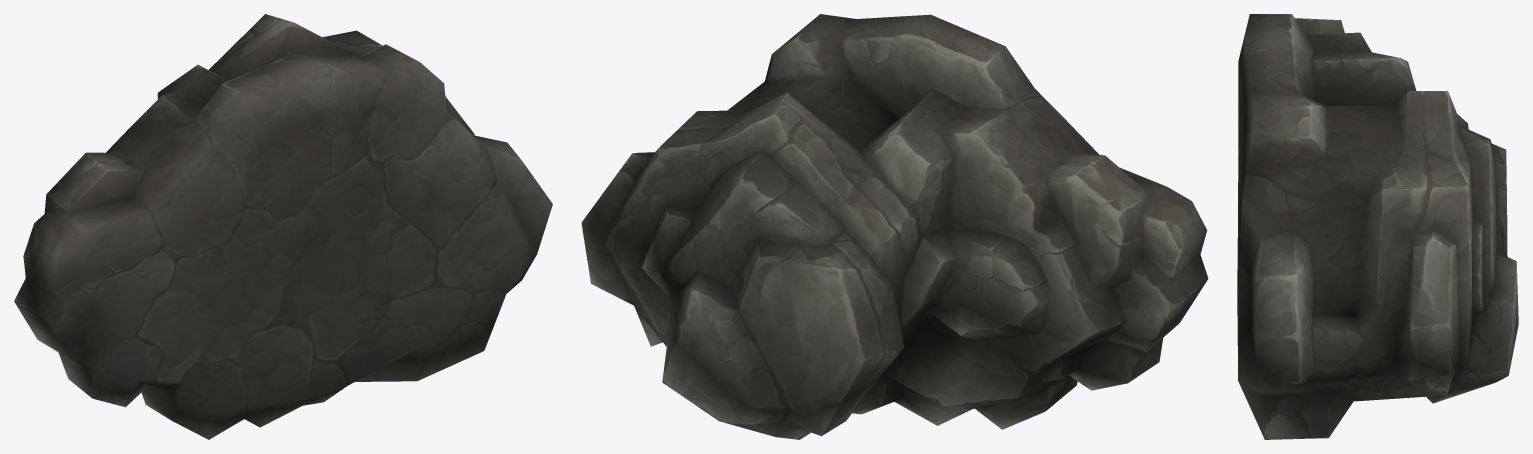
Rendered from Rock3.fbx.
The picture shows the model from 3 angles, left to right: view 1: azimuth 30°, elevation 25°; view 2: azimuth 150°, elevation 25°; view 3: azimuth 270°, elevation 25°; orthographic projection. The views are drawn at different scales.
Visible parts, largest first — view 1: Rock3; view 2: Rock3; view 3: Rock3.
Boxes of the visible parts, x1,y1,x2,y2 form: Rock3: (14,14,552,439); Rock3: (581,14,1208,439); Rock3: (1237,14,1518,439).
Bounding box in the file's own units: 12.67 × 8.39 × 6.25.
